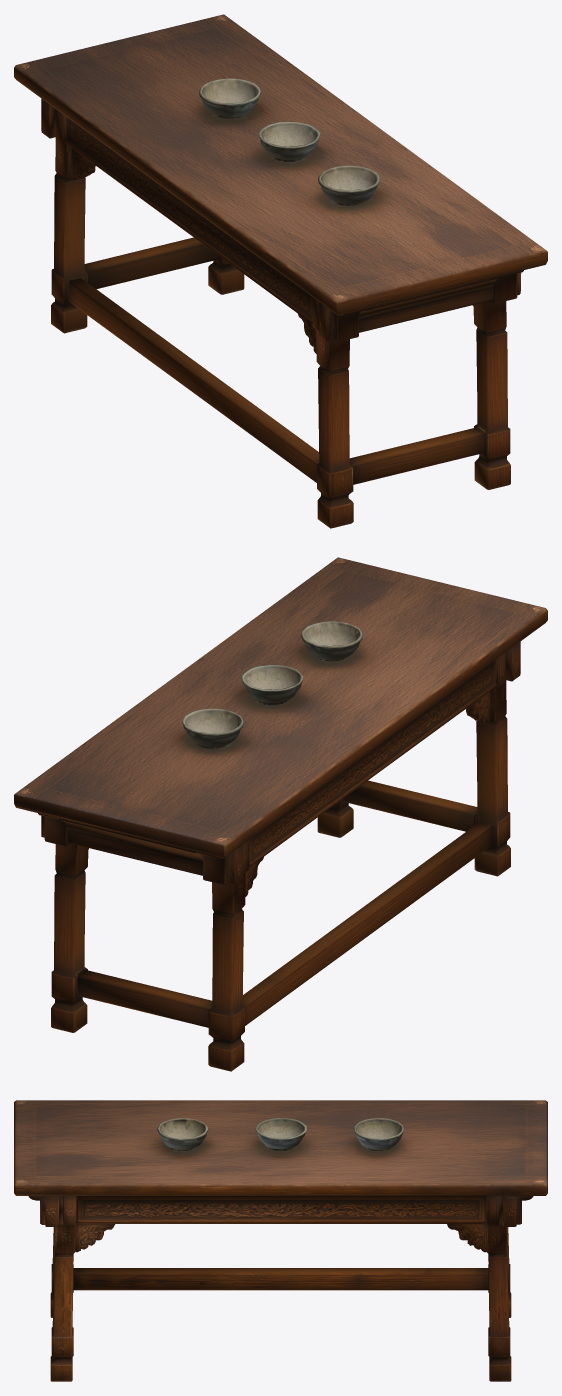
3 views of the same model, one above another, from view 1: azimuth 30°, elevation 25°; view 2: azimuth 150°, elevation 25°; view 3: azimuth 270°, elevation 25° (orthographic). The views are drawn at different scales.
Visible parts, largest first — view 1: tripo_node_dc81564f-e481-4b2d-9b8f-df8bc2566ae9; view 2: tripo_node_dc81564f-e481-4b2d-9b8f-df8bc2566ae9; view 3: tripo_node_dc81564f-e481-4b2d-9b8f-df8bc2566ae9.
Boxes of the visible parts, left/top/right/bottom form: tripo_node_dc81564f-e481-4b2d-9b8f-df8bc2566ae9: left=14, top=14, right=547, bottom=528; tripo_node_dc81564f-e481-4b2d-9b8f-df8bc2566ae9: left=14, top=557, right=547, bottom=1071; tripo_node_dc81564f-e481-4b2d-9b8f-df8bc2566ae9: left=14, top=1100, right=547, bottom=1381.
Bounding box in the file's own units: 0.377 × 0.4551 × 0.998.
1 material, 1 textured.
